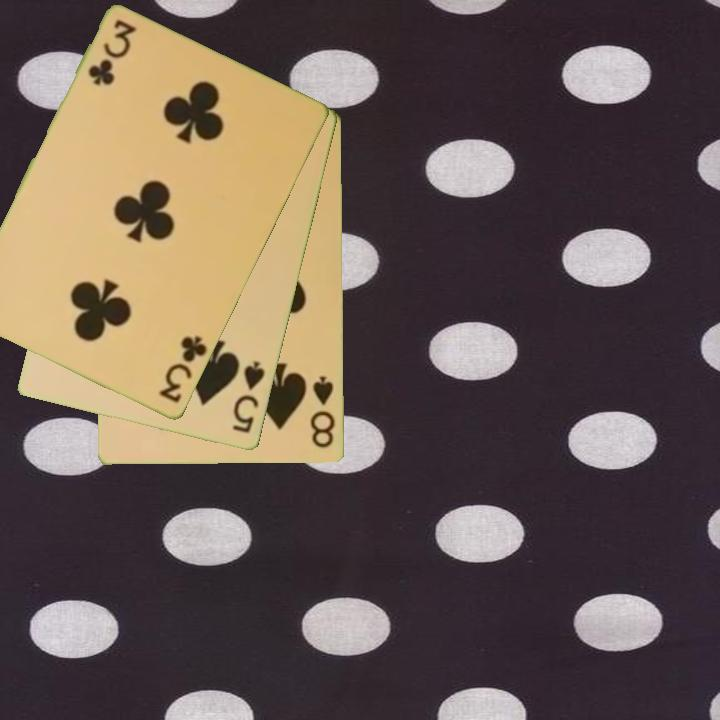3c: (155, 332, 211, 406), (84, 16, 138, 89)
5s: (229, 358, 269, 437)
8s: (307, 372, 338, 452)
